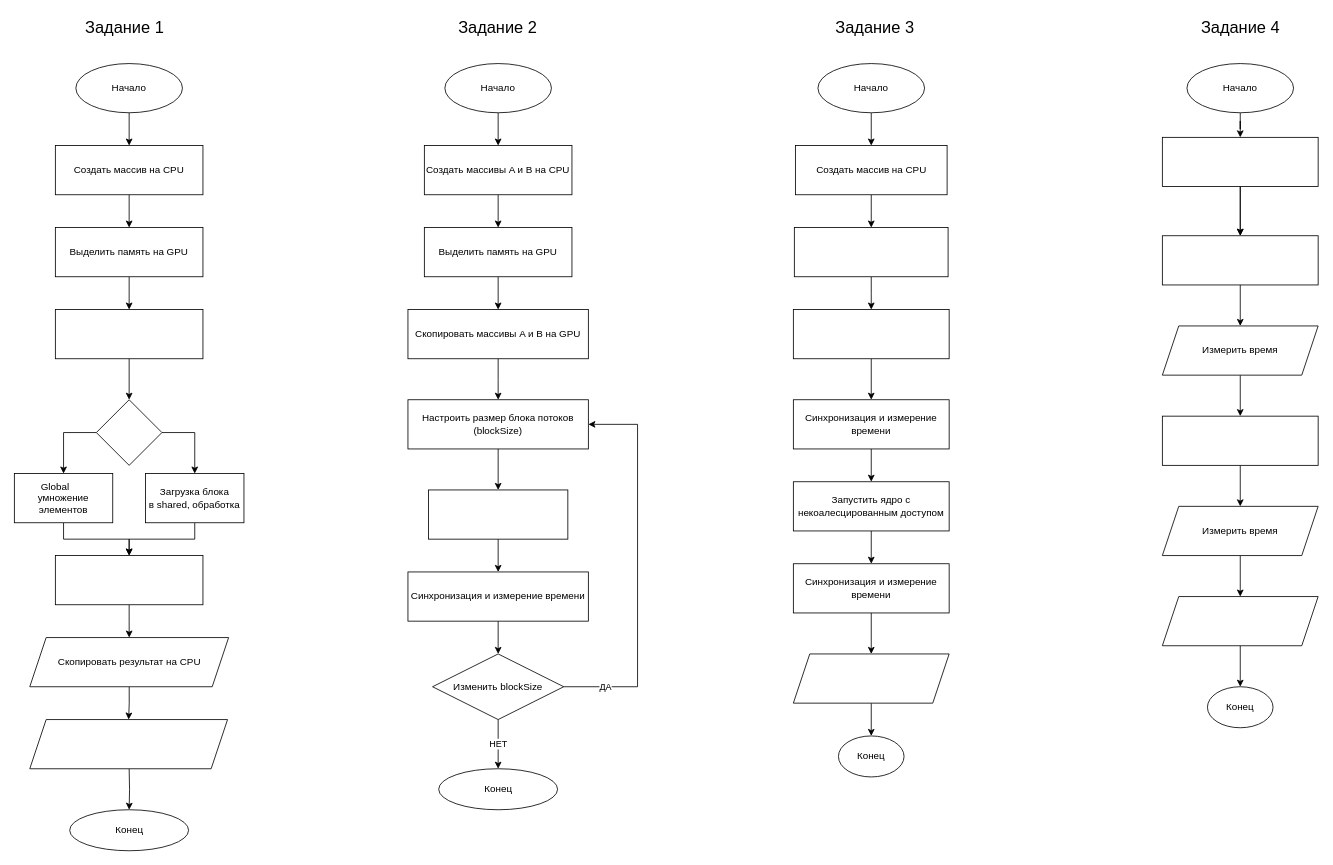
The diagram is 1333 pixels wide and 865 high, and some of its shapes have lost their labels. Each missing label, with the centre of its shape:
"Global или Shared" belongs at point 129,432.
"Выбрать ядро из предыдущих заданий" belongs at point 1240,162.
"Вывести время выполнения" belongs at point 128,744.
"Запустить с неоптимальным blockSize" belongs at point 1240,260.
"Запустить с оптимальным blockSize" belongs at point 1240,440.
"Запустить ядро с коалесцированным доступом" belongs at point 871,334.
"Запустить ядро сложения: C[i] = A[i] + B[i]" belongs at point 498,514.
"Синхронизация потоков" belongs at point 129,580.
"Скопировать данные на GPU" belongs at point 129,334.
"Скопировать массив на GPU" belongs at point 871,252.
"Сравнить времена и сделать вывод" belongs at point 871,678.
"Сравнить производительность" belongs at point 1240,621.
